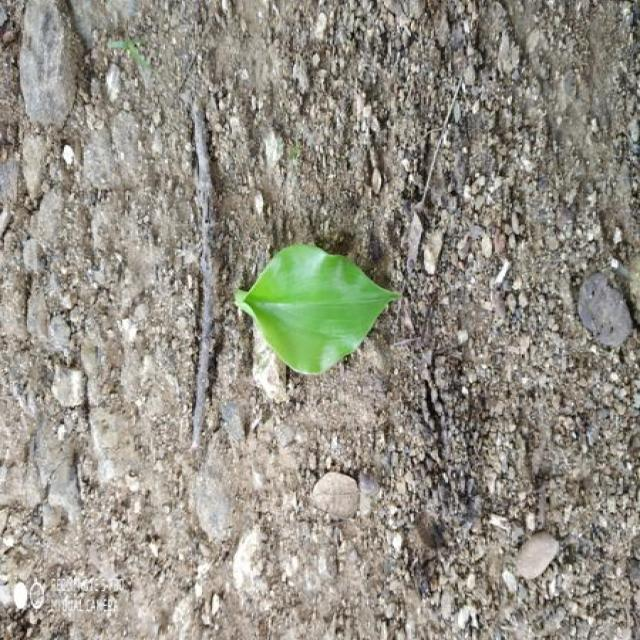insulin: (235, 244, 402, 373)
